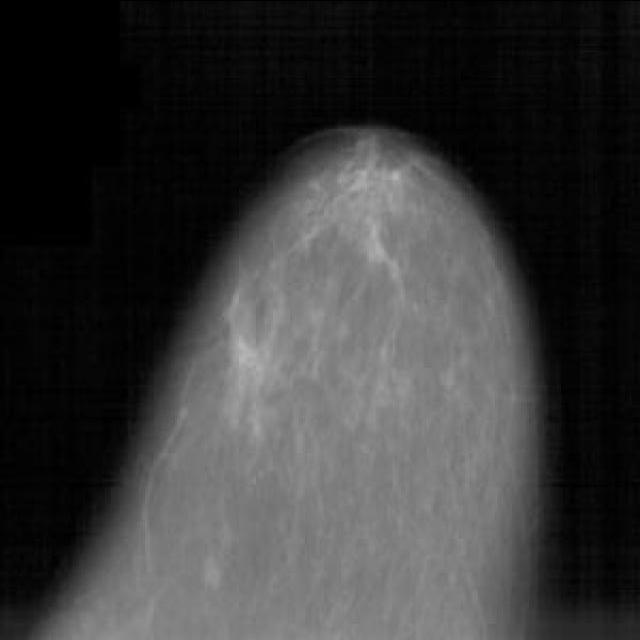tumor: (312, 135, 415, 272), (211, 271, 280, 429)
